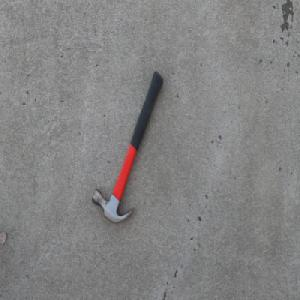Hammer: (91, 69, 163, 223)
